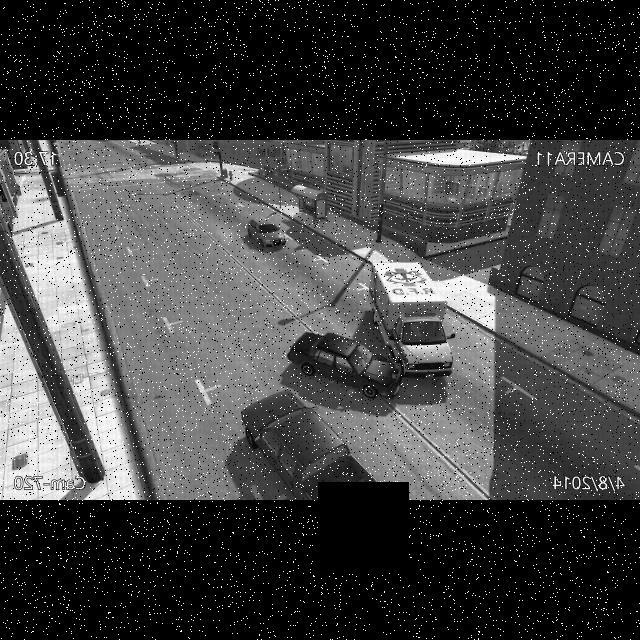moderate: (280, 256, 460, 399)
